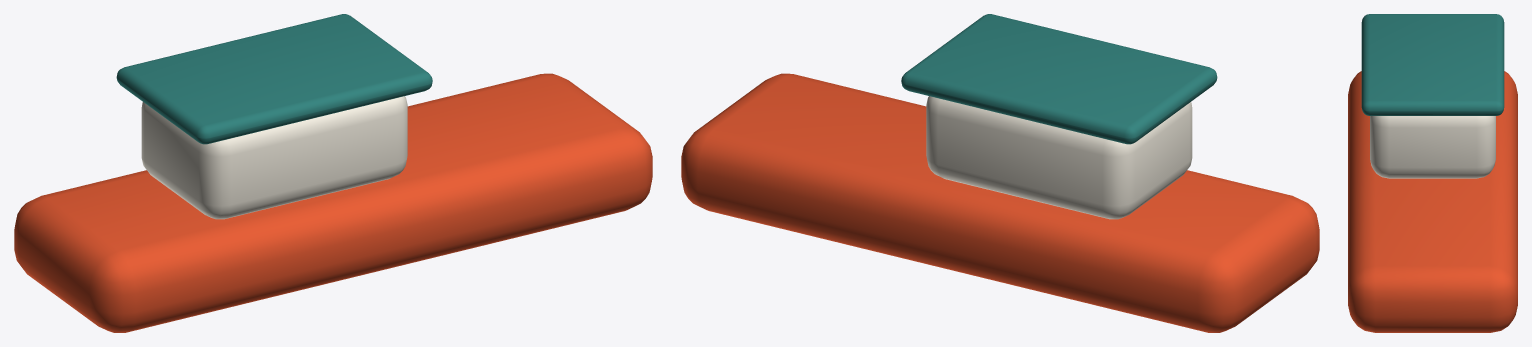
File: boat.glb
3 renders of one model, left to right at view 1: azimuth 30°, elevation 25°; view 2: azimuth 150°, elevation 25°; view 3: azimuth 270°, elevation 25°, orthographic. The views are drawn at different scales.
Parts seen in each view (by area): view 1: boat_hull, boat_roof, boat_cab; view 2: boat_hull, boat_roof, boat_cab; view 3: boat_hull, boat_roof, boat_cab.
Part boxes in pixels (x1=…): boat_hull: x1=14, y1=73, x2=652, y2=332; boat_roof: x1=116, y1=14, x2=432, y2=144; boat_cab: x1=141, y1=96, x2=407, y2=219; boat_hull: x1=681, y1=73, x2=1319, y2=332; boat_roof: x1=901, y1=14, x2=1217, y2=144; boat_cab: x1=926, y1=96, x2=1192, y2=219; boat_hull: x1=1348, y1=71, x2=1517, y2=332; boat_roof: x1=1361, y1=14, x2=1504, y2=115; boat_cab: x1=1370, y1=116, x2=1495, y2=178.
Bounding box in the file's own units: 1.9 × 0.61 × 0.62.
